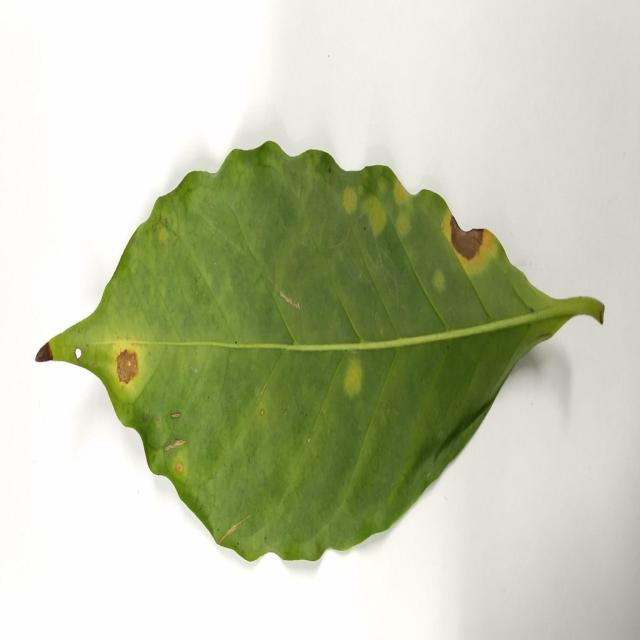Enfermedad-Mancha-de-hierro: (34, 141, 605, 565)
